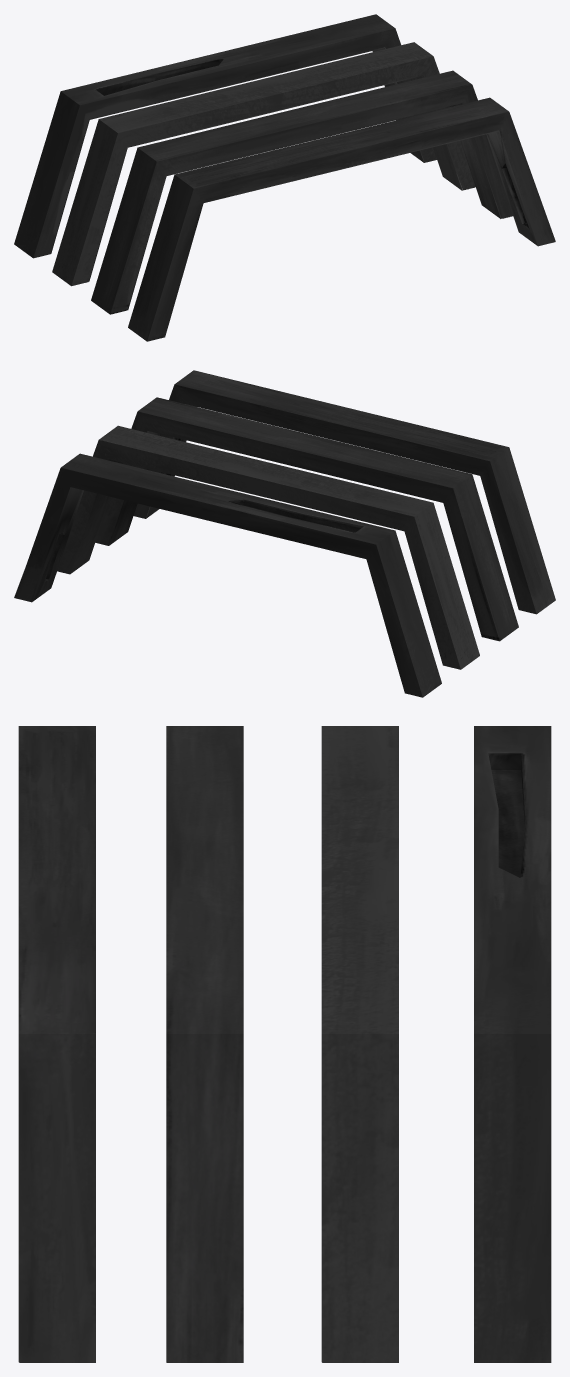
Rendered from ArchwaysV5.fbx.
The picture shows the model from 3 angles, top to bottom: view 1: azimuth 30°, elevation 25°; view 2: azimuth 150°, elevation 25°; view 3: azimuth 270°, elevation 25°; orthographic projection. The views are drawn at different scales.
Visible parts, largest first — view 1: Archway_v2_pCube1, pCube1, Archway_v3_pCube1, Archway_v1_pCube1; view 2: Archway_v1_pCube1, Archway_v3_pCube1, pCube1, Archway_v2_pCube1; view 3: pCube1, Archway_v1_pCube1, Archway_v3_pCube1, Archway_v2_pCube1.
Part boxes in pixels (x1,y1,x2,y2): Archway_v2_pCube1: (128,97,555,341); pCube1: (91,70,512,314); Archway_v3_pCube1: (52,42,475,286); Archway_v1_pCube1: (14,14,436,258); Archway_v1_pCube1: (14,453,441,697); Archway_v3_pCube1: (57,425,479,669); pCube1: (95,397,518,641); Archway_v2_pCube1: (133,370,555,614); pCube1: (166,726,243,1362); Archway_v1_pCube1: (474,726,551,1362); Archway_v3_pCube1: (321,726,398,1362); Archway_v2_pCube1: (18,726,95,1362).
Bounding box in the file's own units: 12.23 × 4.05 × 6.9.
Materials: 1 (1 with a texture image).
